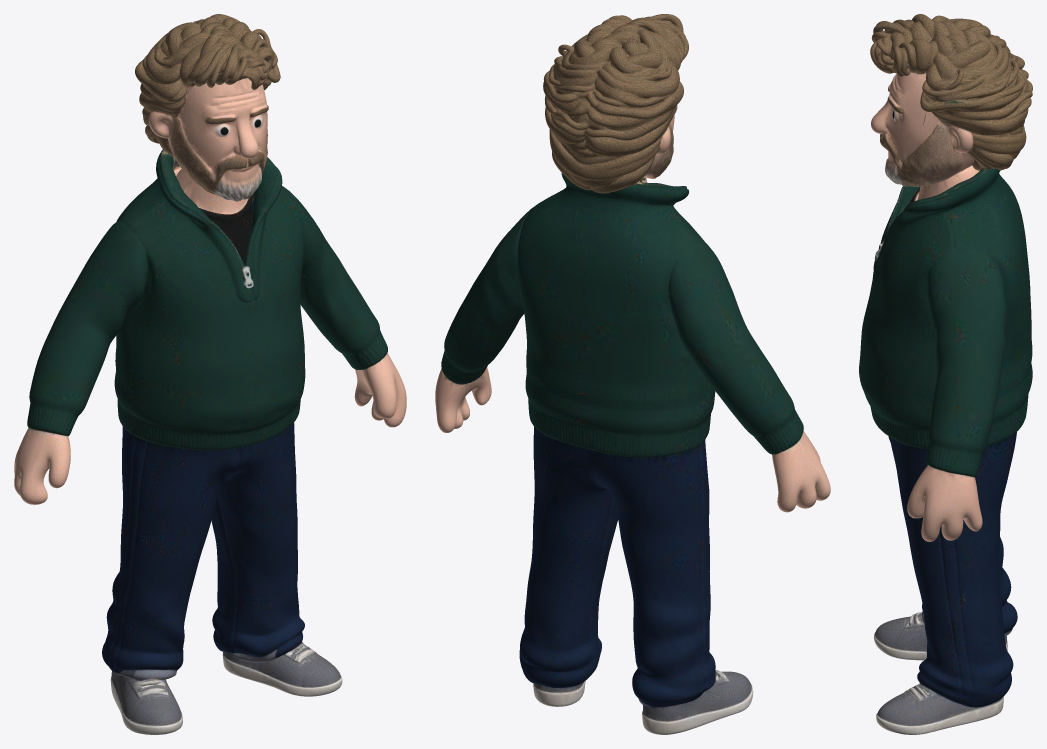
The model's file is conal.glb.
3 renders of one model, left to right at view 1: azimuth 30°, elevation 25°; view 2: azimuth 150°, elevation 25°; view 3: azimuth 270°, elevation 25°, orthographic.
Visible parts, largest first — view 1: puppet_gen; view 2: puppet_gen; view 3: puppet_gen.
Part boxes in pixels (box(x1,y1,x2,y2)): puppet_gen: box(14, 14, 406, 734); puppet_gen: box(435, 14, 830, 734); puppet_gen: box(859, 14, 1032, 734).
Size of the model in its own units: 1.05 by 1.75 by 0.4137.
1 material, 1 textured.
